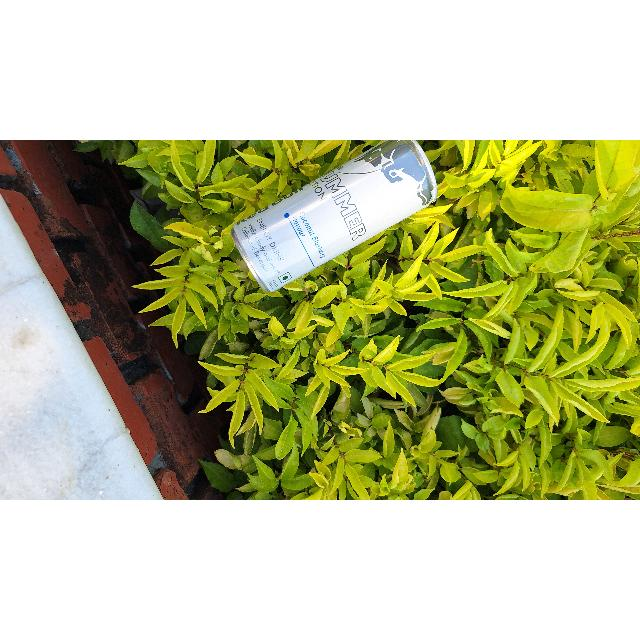Redbull Summer Edition: (226, 140, 436, 298)
